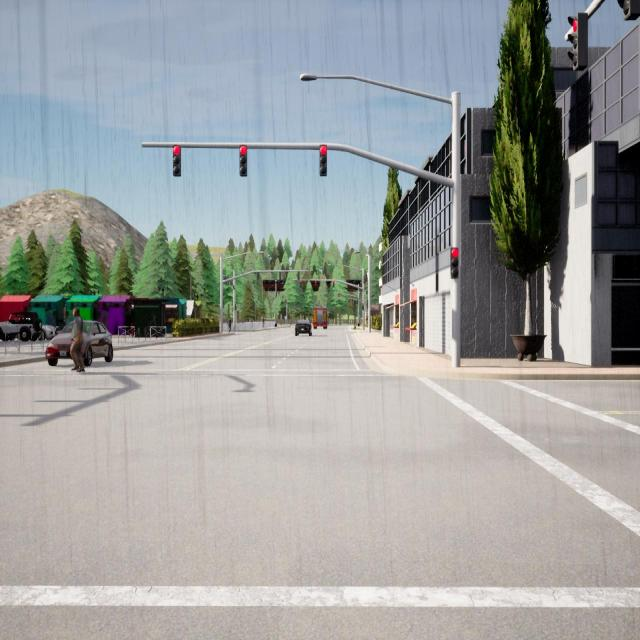Pedestrian: (70, 307, 84, 372), (228, 316, 232, 332), (262, 316, 264, 328)
Traffic_Signs: (284, 316, 288, 320)
Vehicle: (46, 320, 114, 366), (0, 310, 44, 342), (313, 306, 328, 330), (295, 319, 312, 336), (44, 324, 56, 340)
traffic_light: (568, 13, 588, 70), (617, 0, 640, 21), (450, 247, 459, 279), (239, 145, 247, 177), (173, 145, 181, 176), (320, 145, 328, 176), (279, 272, 281, 281), (298, 271, 300, 280), (258, 272, 260, 280), (300, 280, 302, 287), (362, 303, 364, 310), (363, 276, 365, 283), (315, 280, 317, 286), (235, 304, 237, 310), (333, 280, 334, 288), (365, 274, 366, 282), (367, 274, 368, 282), (338, 293, 339, 297)
